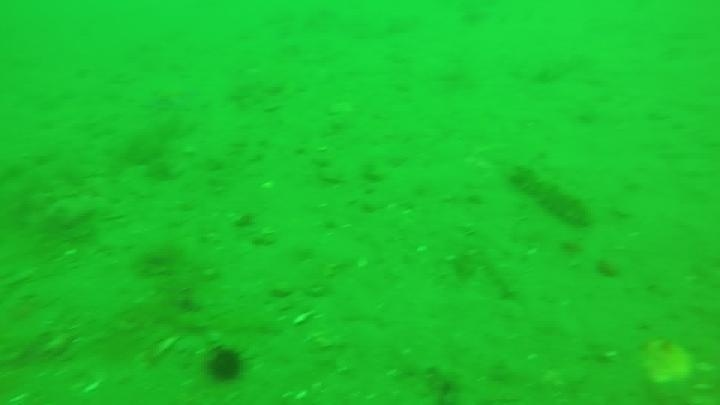echinus: (203, 345, 247, 385)
holothurian: (509, 162, 594, 230)
scallop: (638, 335, 697, 389)
